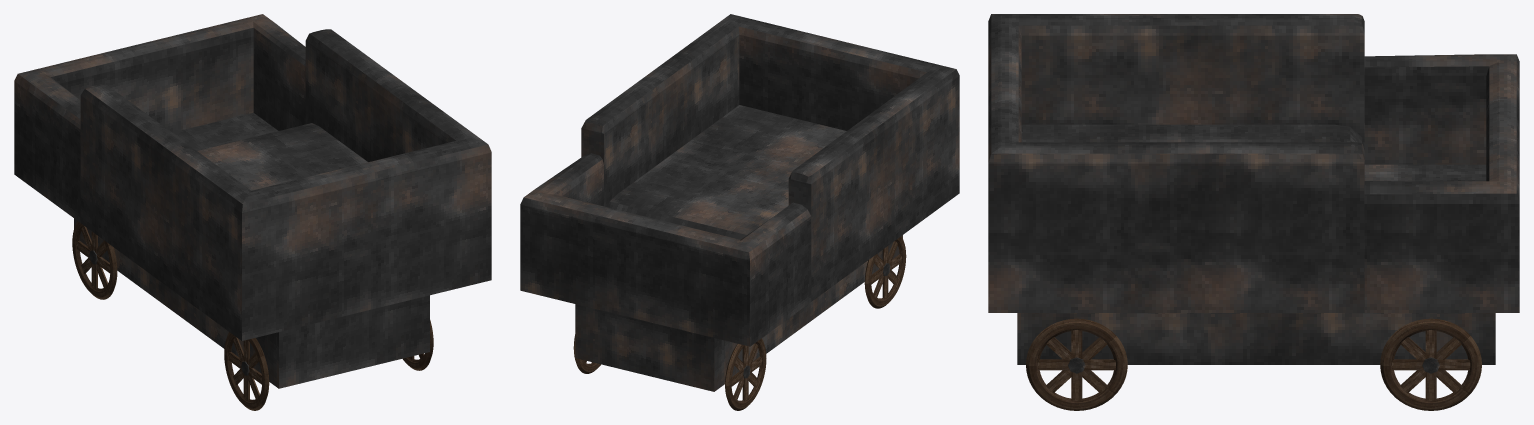
Rendered from Train_Engine.fbx.
The picture shows the model from 3 angles, left to right: view 1: azimuth 30°, elevation 25°; view 2: azimuth 150°, elevation 25°; view 3: azimuth 270°, elevation 25°; orthographic projection. The views are drawn at different scales.
Parts seen in each view (by area): view 1: Train_Engine; view 2: Train_Engine; view 3: Train_Engine.
Part boxes in pixels (<box>): Train_Engine: <box>14,14,491,410</box>; Train_Engine: <box>520,14,959,410</box>; Train_Engine: <box>988,14,1519,410</box>.
Size of the model in its own units: 380 by 353 by 600.
